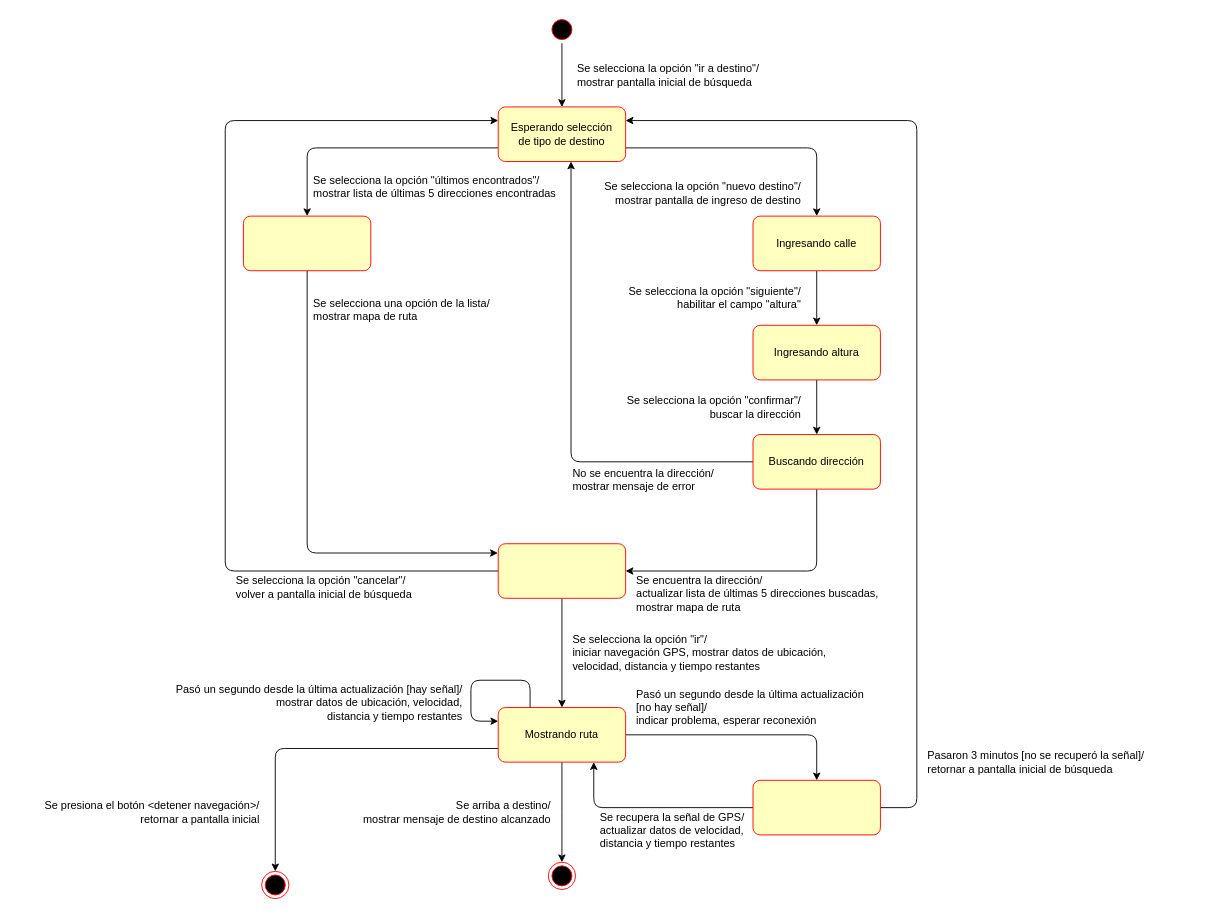
Image size: 1205x915. Some labels were removed from this diagram. Here are the shapes that lost their labels. From the top down, the centre of each, then its label:
At (x=307, y=243): "Esperando selección de destino del historial".
At (x=561, y=570): "Esperando inicialización por parte del usuario".
At (x=816, y=807): "Esperando reconexión con la red satelital".
